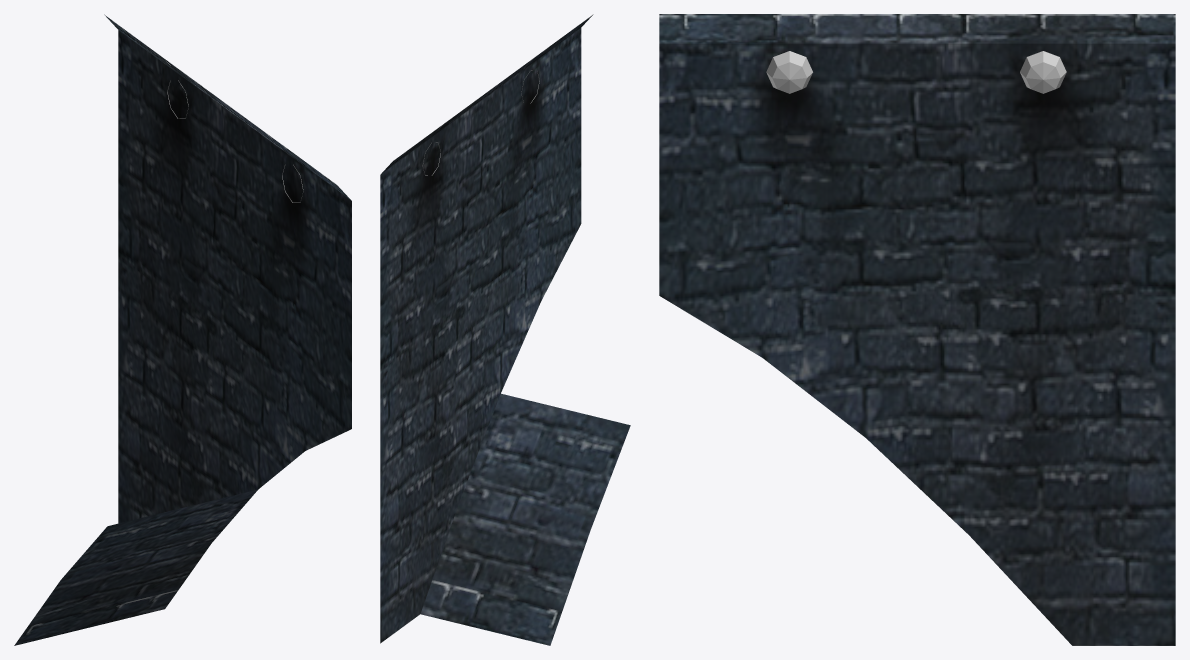
3 renders of one model, left to right at view 1: azimuth 30°, elevation 25°; view 2: azimuth 150°, elevation 25°; view 3: azimuth 270°, elevation 25°, orthographic. The views are drawn at different scales.
Visible parts, largest first — view 1: xs_wj07; view 2: xs_wj07; view 3: xs_wj07.
Boxes of the visible parts, <box> form: xs_wj07: <box>14,14,351,645</box>; xs_wj07: <box>380,14,630,645</box>; xs_wj07: <box>659,14,1175,645</box>.
Size of the model in its own units: 623 by 2032 by 1524.
